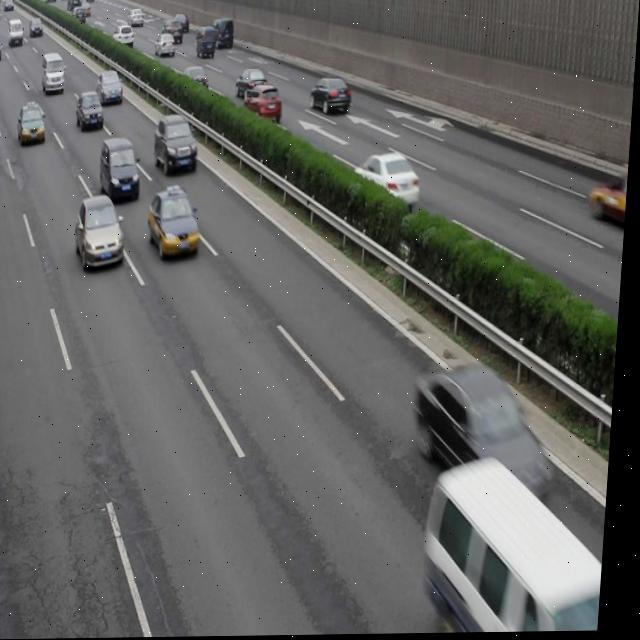car: (417, 367, 561, 495), (149, 185, 206, 259), (77, 197, 131, 271), (356, 152, 423, 209), (154, 116, 201, 173), (101, 138, 144, 198), (310, 79, 353, 115), (244, 84, 282, 123), (18, 105, 48, 145), (78, 92, 106, 131), (236, 69, 268, 99), (97, 72, 125, 105), (180, 66, 210, 93), (196, 26, 216, 59), (154, 32, 176, 60), (112, 26, 135, 49), (162, 20, 183, 45), (173, 14, 190, 32)
truck: (430, 462, 615, 635), (43, 53, 67, 93), (211, 18, 234, 50)
